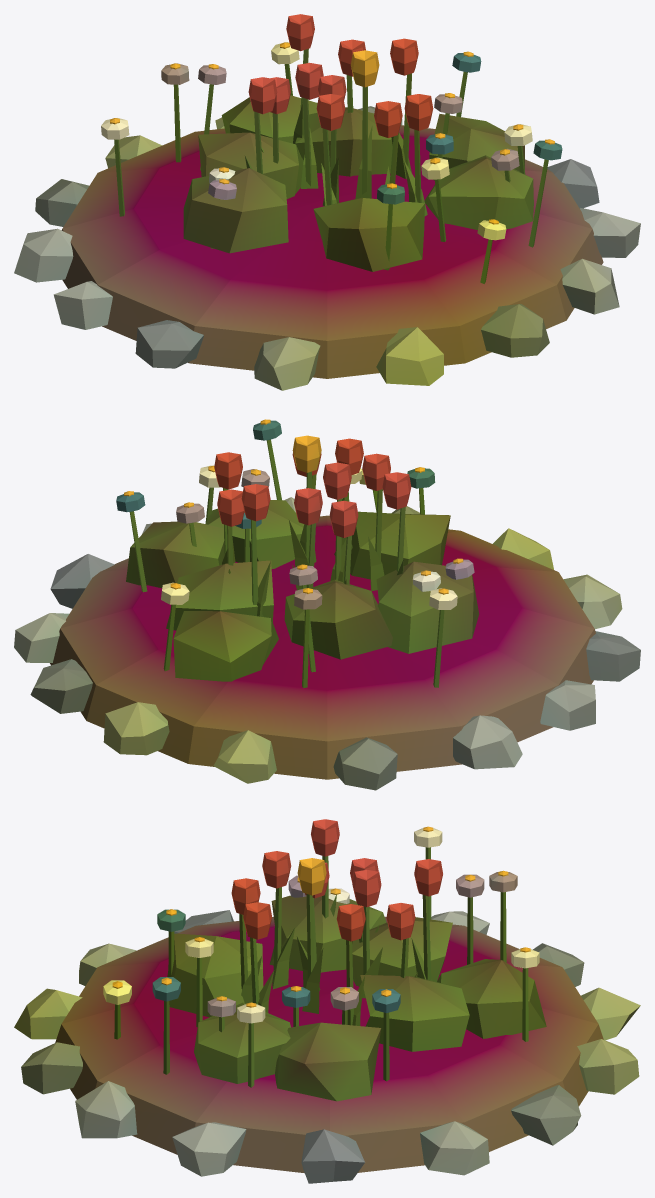
Rendered from FlowerBed_Round_01.glb.
The picture shows the model from 3 angles, top to bottom: view 1: azimuth 30°, elevation 25°; view 2: azimuth 150°, elevation 25°; view 3: azimuth 270°, elevation 25°; orthographic projection.
Visible parts, largest first — view 1: FlowerBed_Round_01; view 2: FlowerBed_Round_01; view 3: FlowerBed_Round_01.
Boxes of the visible parts, bbox=[...] form: FlowerBed_Round_01: bbox=[14, 14, 640, 390]; FlowerBed_Round_01: bbox=[14, 419, 640, 790]; FlowerBed_Round_01: bbox=[14, 819, 640, 1183].
Bounding box in the file's own units: 1.68 × 0.6183 × 1.68.
